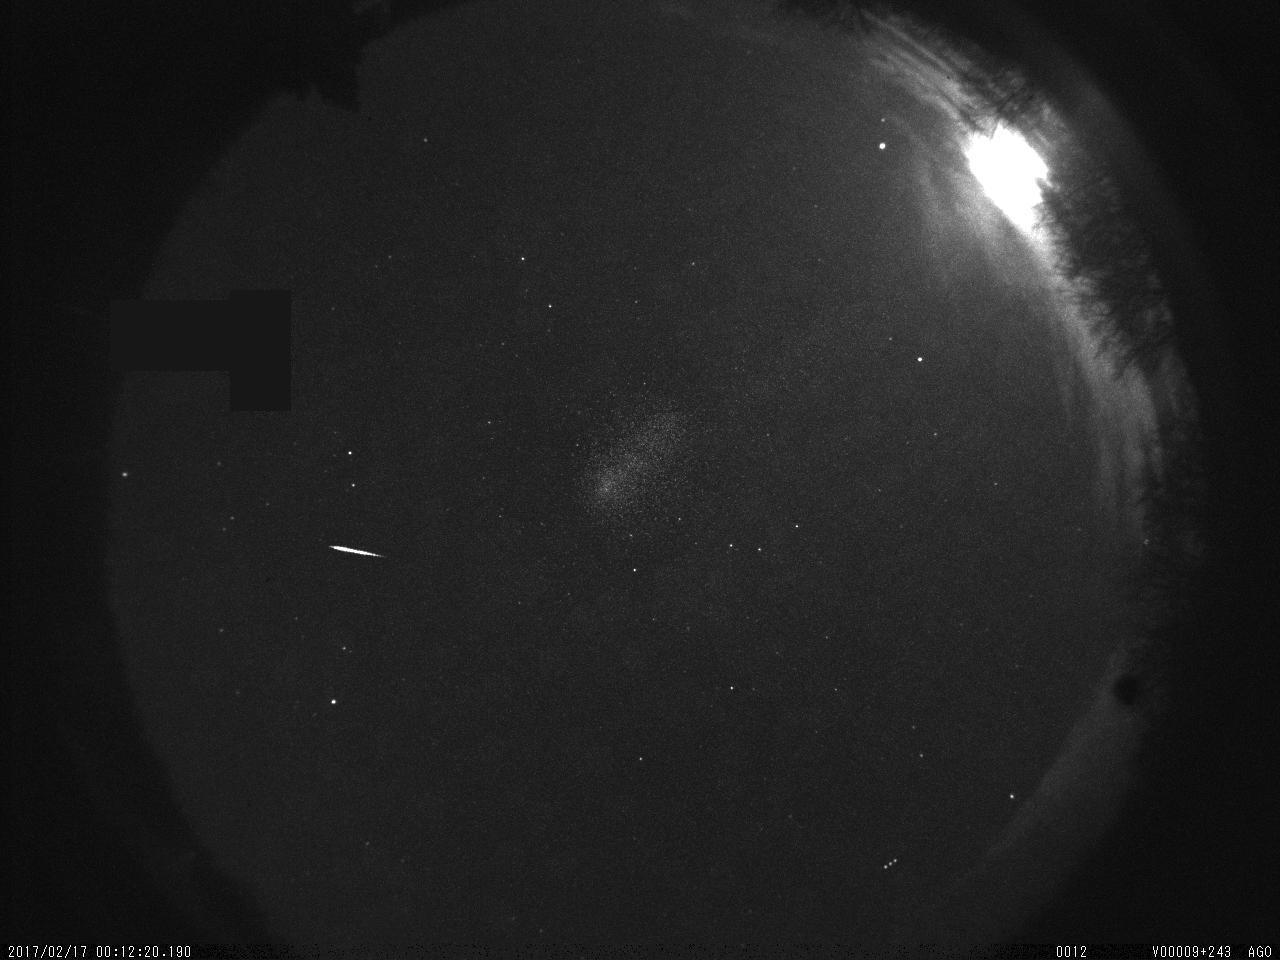Meteor: (327, 543, 385, 560)
